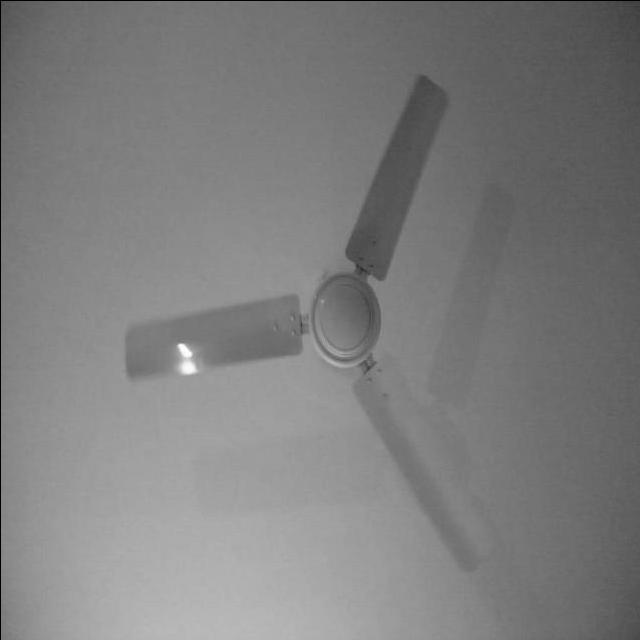fan: (123, 75, 517, 575)
